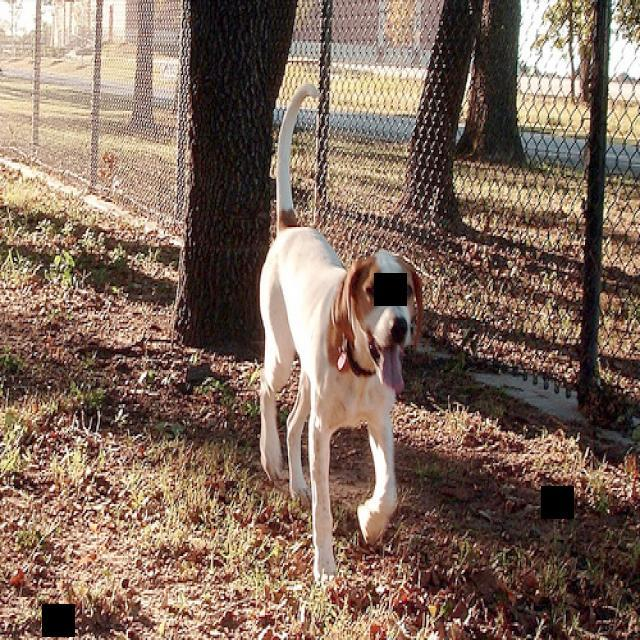adult_dog: (255, 81, 427, 590)
